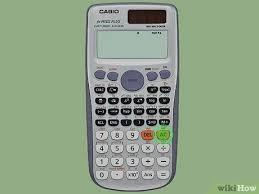Calculator: (79, 0, 188, 193)
